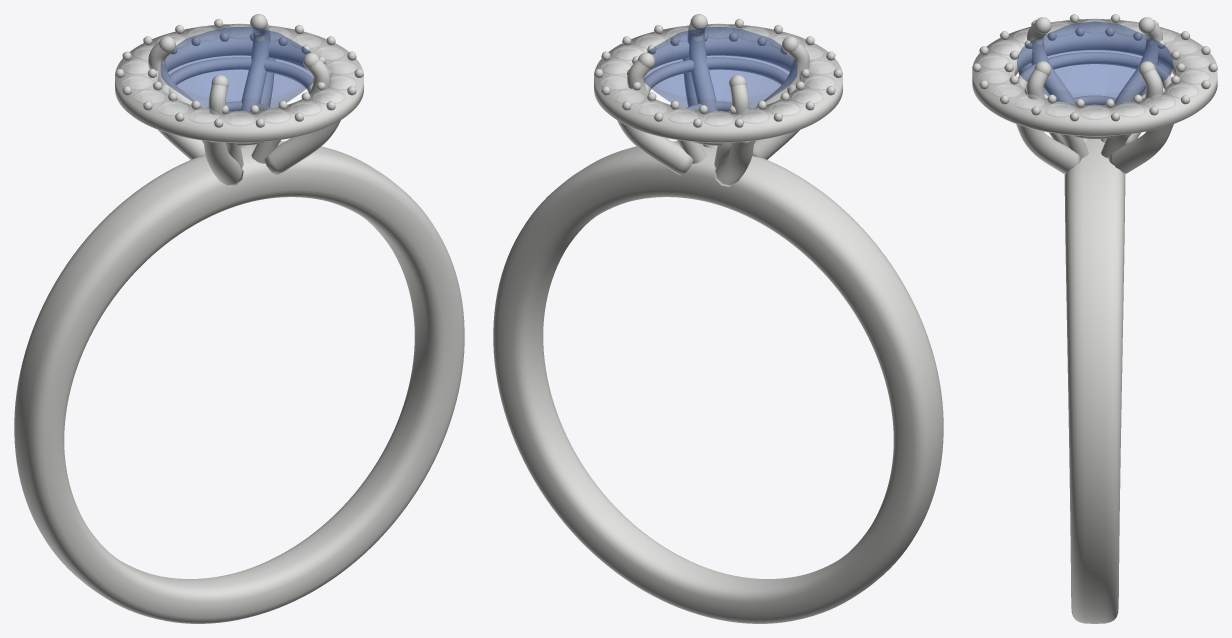
Rendered from Ring_Halo_Preview.glb.
The picture shows the model from 3 angles, left to right: view 1: azimuth 30°, elevation 25°; view 2: azimuth 150°, elevation 25°; view 3: azimuth 270°, elevation 25°; orthographic projection.
Visible parts, largest first — view 1: Band, Halo_Frame, PreviewGem_Center, Head_Center; view 2: Band, Halo_Frame, PreviewGem_Center, Head_Center; view 3: Band, Halo_Frame, PreviewGem_Center, Head_Center, Accent_00, Accent_01, Accent_17, Accent_02, Accent_16, Accent_04, Accent_14, Accent_03 (+5 smaller).
Part boxes in pixels (bbox=[...]): Band: bbox=[14, 141, 464, 623]; Halo_Frame: bbox=[115, 19, 363, 186]; PreviewGem_Center: bbox=[161, 27, 313, 110]; Head_Center: bbox=[148, 14, 330, 167]; Band: bbox=[493, 141, 943, 623]; Halo_Frame: bbox=[594, 19, 842, 186]; PreviewGem_Center: bbox=[644, 27, 796, 110]; Head_Center: bbox=[627, 14, 809, 167]; Band: bbox=[1064, 139, 1125, 623]; Halo_Frame: bbox=[972, 14, 1217, 174]; PreviewGem_Center: bbox=[1017, 21, 1172, 104]; Head_Center: bbox=[1018, 17, 1171, 157]; Accent_00: bbox=[1079, 104, 1110, 119]; Accent_01: bbox=[1114, 102, 1144, 117]; Accent_17: bbox=[1045, 102, 1075, 117]; Accent_02: bbox=[1145, 94, 1175, 109]; Accent_16: bbox=[1014, 94, 1044, 109]; Accent_04: bbox=[1180, 69, 1210, 84]; Accent_14: bbox=[979, 69, 1009, 84]; Accent_03: bbox=[1168, 83, 1198, 97].
Bounding box in the file's own units: 0.0207 × 0.0258 × 0.0102.
